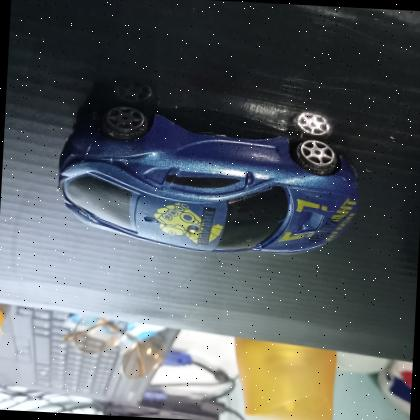Car: (49, 99, 368, 264)
